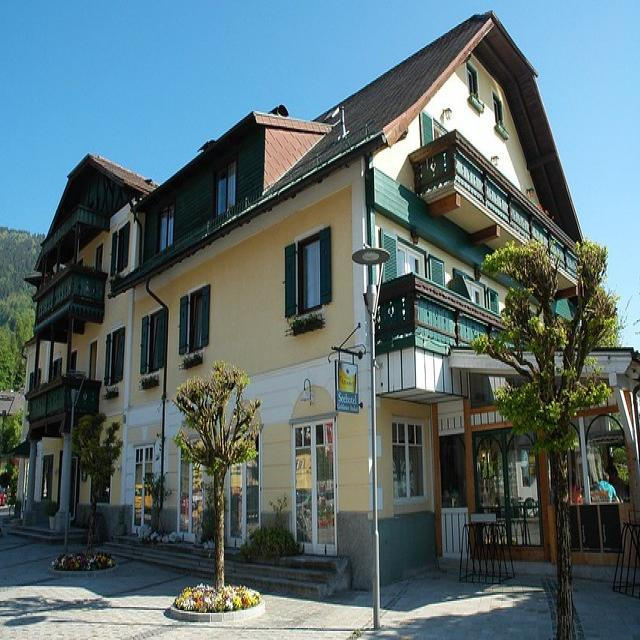Normal_building: (14, 11, 602, 608)
